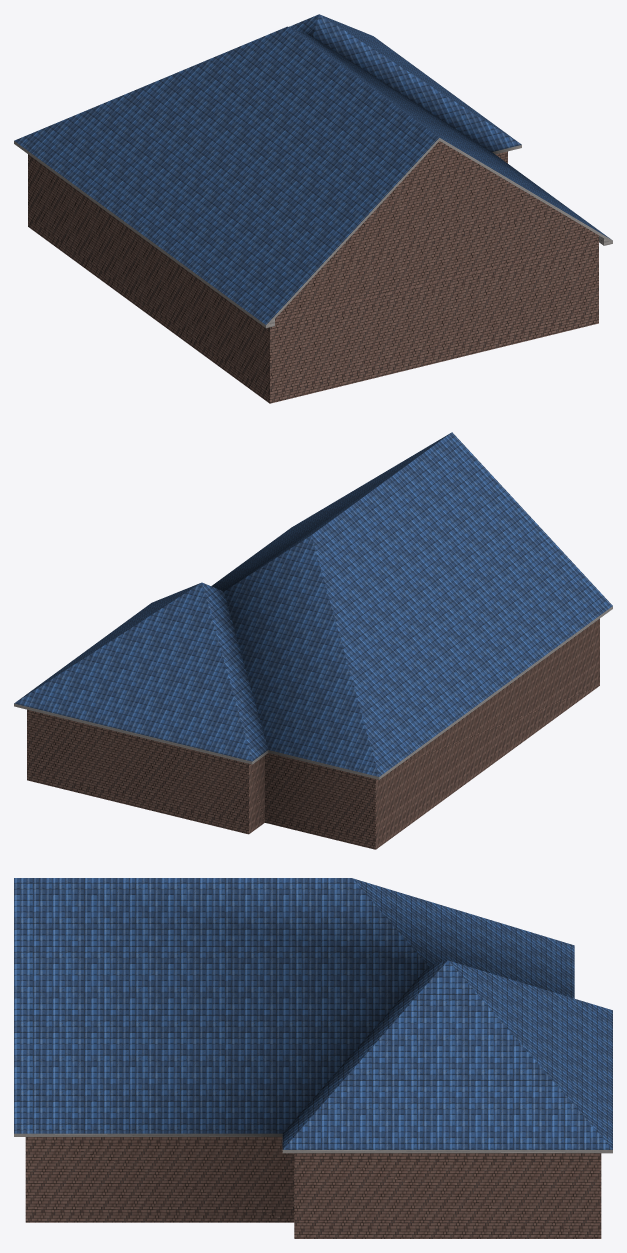
File: house_013.glb
3 renders of one model, top to bottom at view 1: azimuth 30°, elevation 25°; view 2: azimuth 150°, elevation 25°; view 3: azimuth 270°, elevation 25°, orthographic. The views are drawn at different scales.
Visible parts, largest first — view 1: Export; view 2: Export; view 3: Export.
Part boxes in pixels (x1,y1,x2,y2): Export: (14, 14, 612, 403); Export: (14, 432, 612, 849); Export: (14, 878, 612, 1238).
Size of the model in its own units: 12.6 by 7.34 by 15.6.
Materials: 3 (3 with a texture image).
